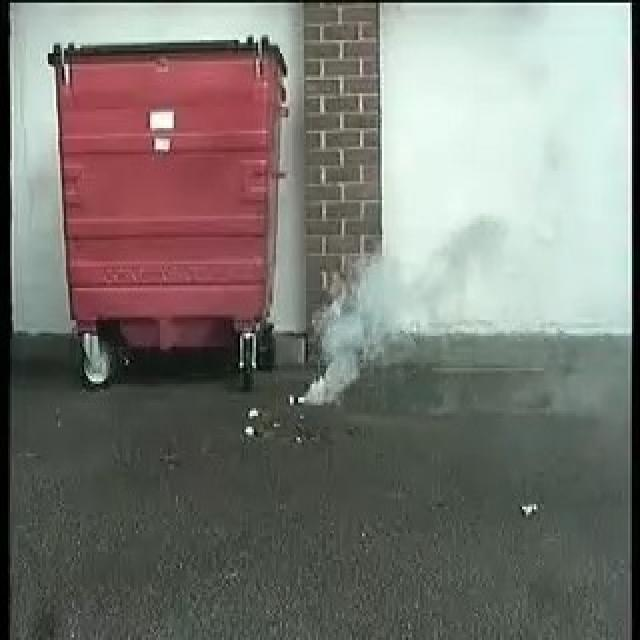smoke: (307, 252, 442, 418)
